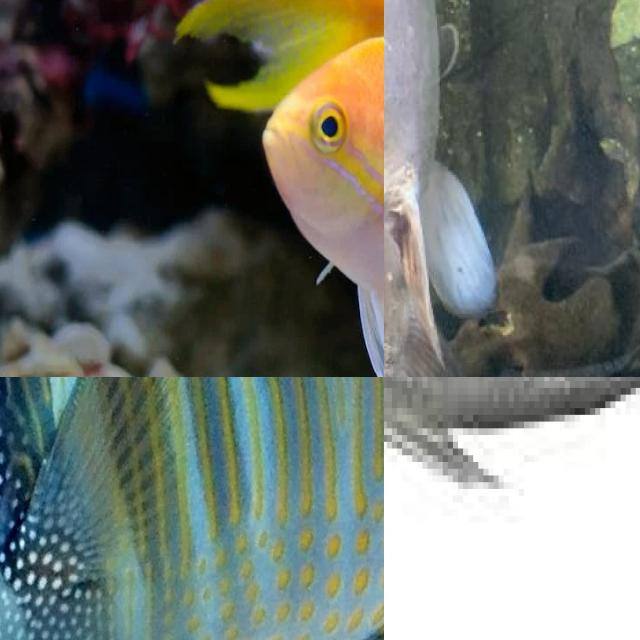fish: (0, 0, 384, 377), (0, 377, 384, 640), (384, 377, 640, 563), (384, 0, 505, 377)
